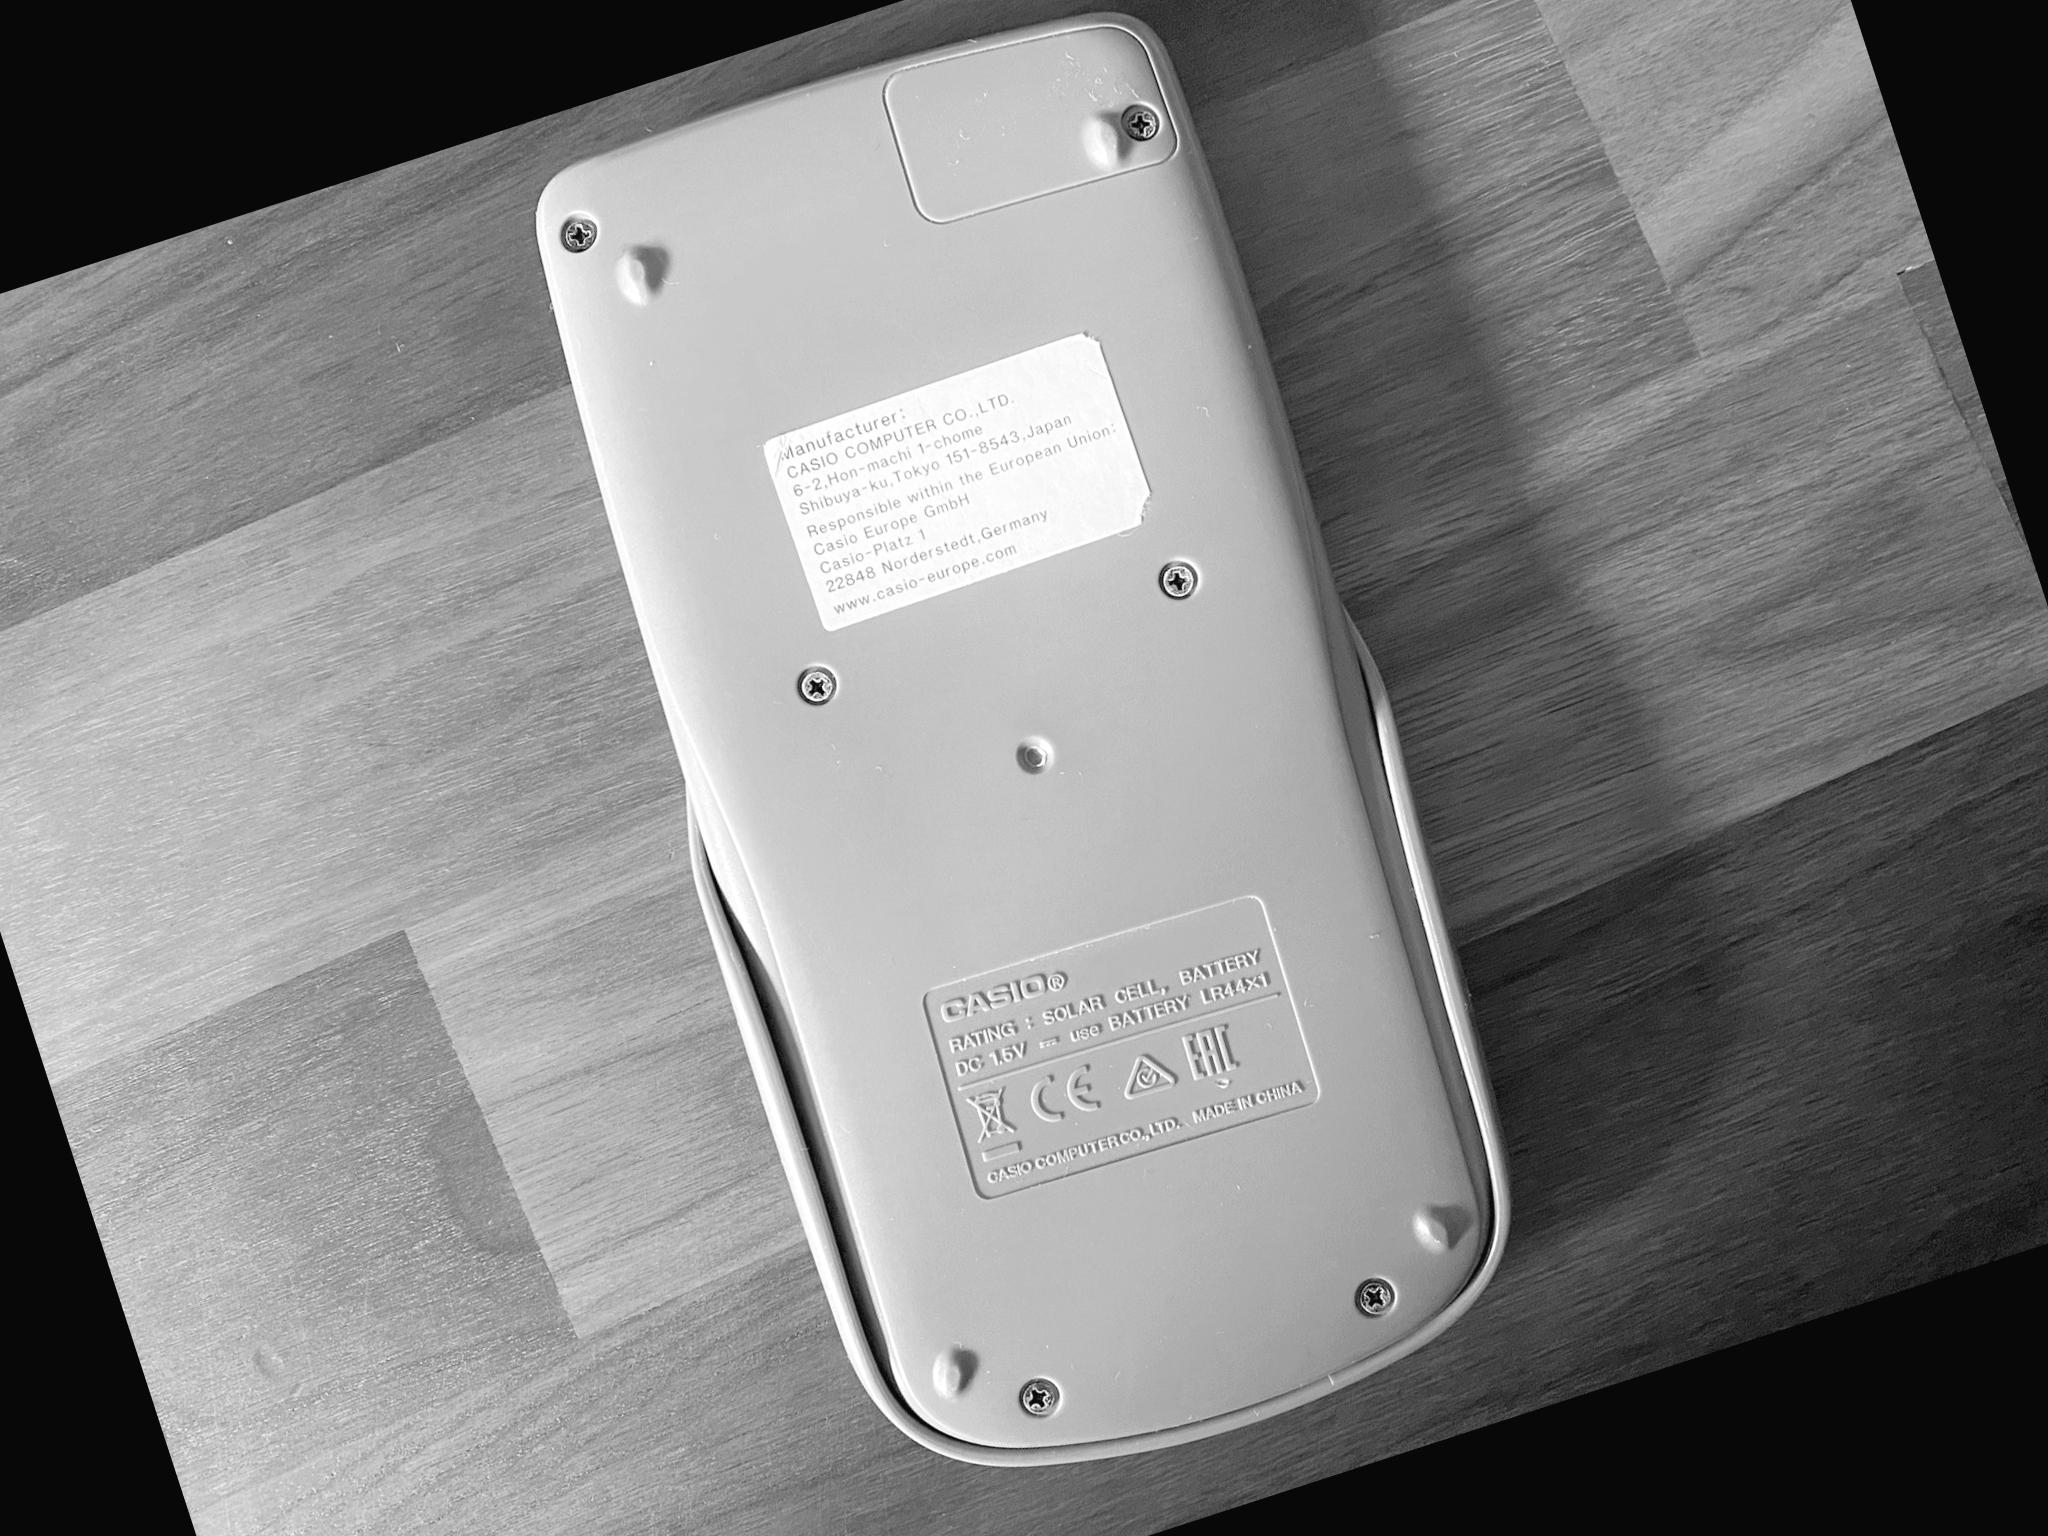screw: (794, 660, 844, 709), (1353, 1273, 1401, 1319), (555, 210, 600, 258), (1118, 98, 1162, 144), (1018, 1376, 1062, 1420), (1158, 558, 1198, 600)
